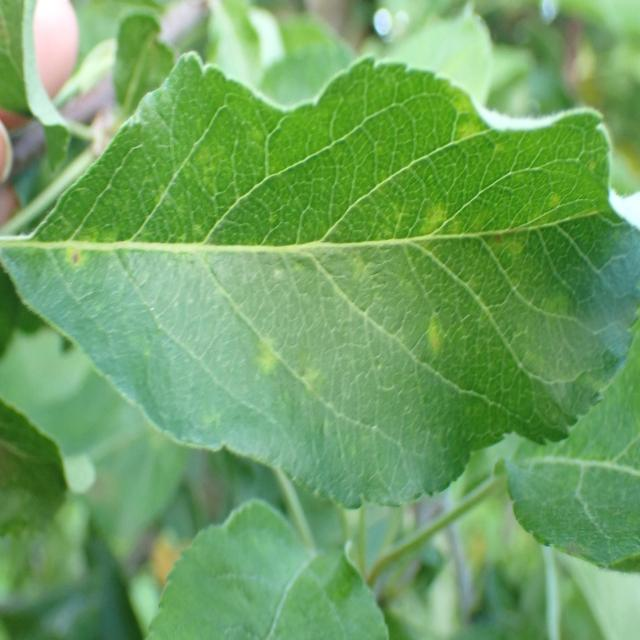scab: (40, 120, 581, 454)
